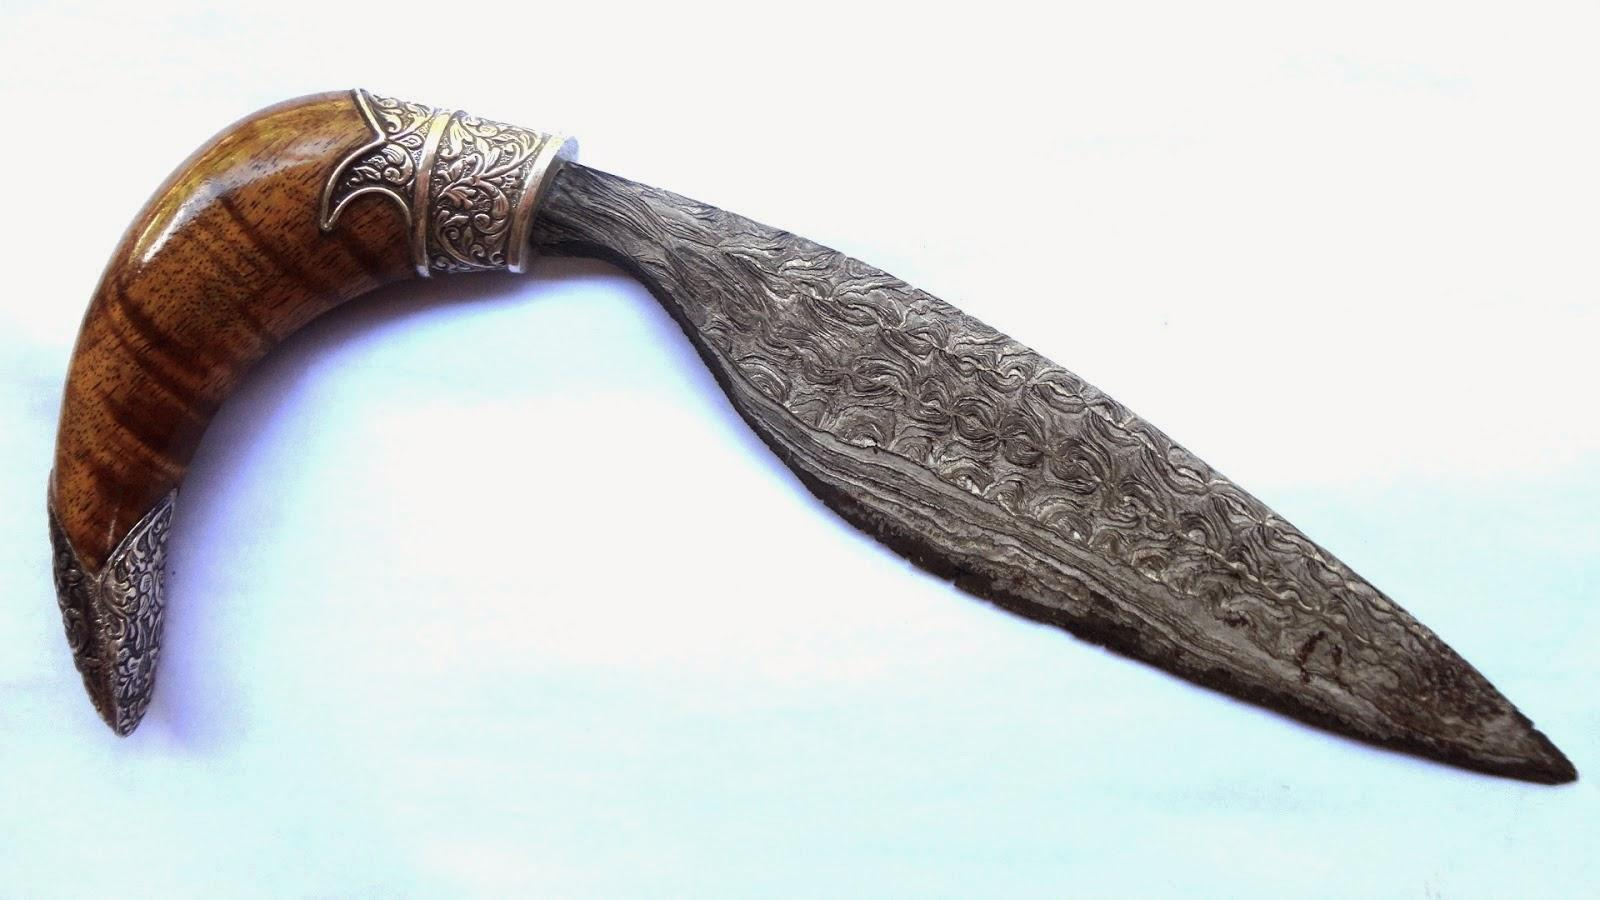facao: (0, 60, 1589, 853)
